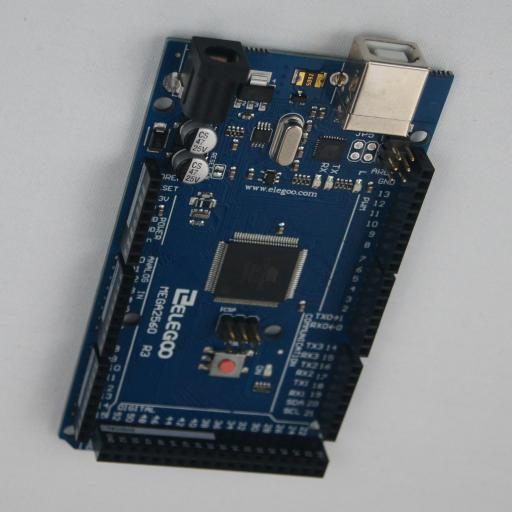Arduino Mega 2560 -Blue-: (58, 36, 454, 478)
